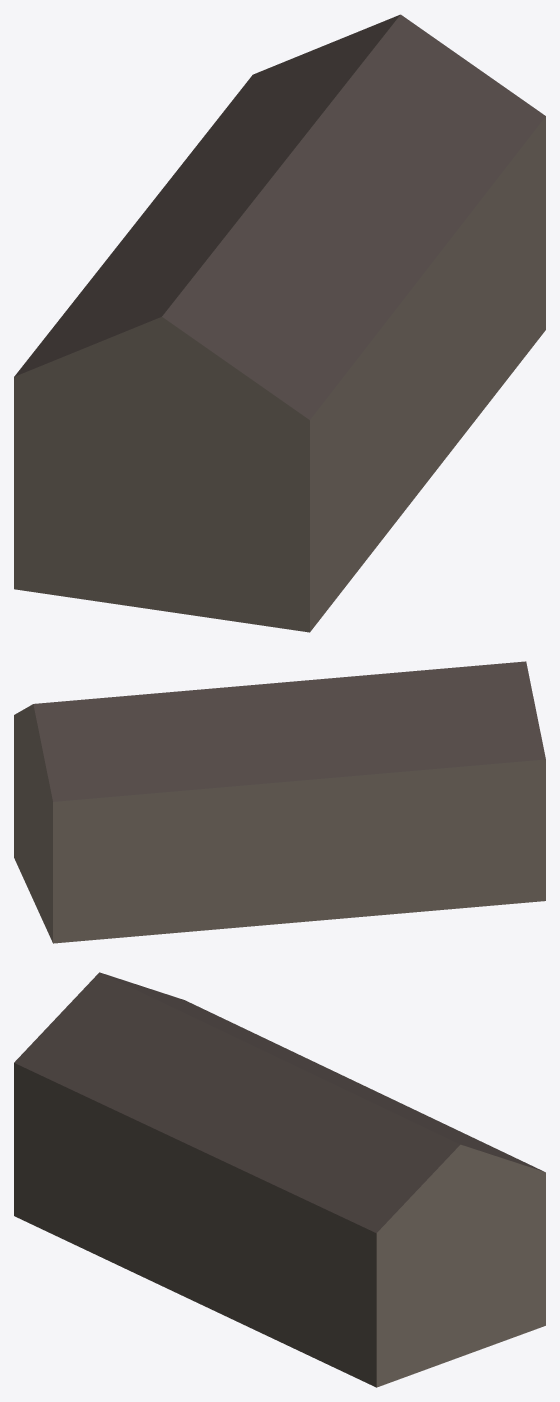
3 renders of one model, top to bottom at view 1: azimuth 30°, elevation 25°; view 2: azimuth 150°, elevation 25°; view 3: azimuth 270°, elevation 25°, orthographic. The views are drawn at different scales.
Parts seen in each view (by area): view 1: HP-w1515076940; view 2: HP-w1515076940; view 3: HP-w1515076940.
Part boxes in pixels (<box>): HP-w1515076940: <box>14,14,545,632</box>; HP-w1515076940: <box>14,661,545,943</box>; HP-w1515076940: <box>14,972,545,1387</box>.
Bounding box in the file's own units: 29.49 × 12.47 × 28.31.
